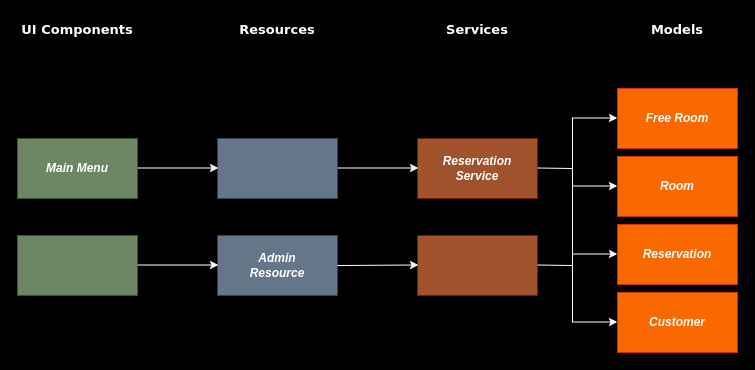
This 755x370 diagram has some shape labels left out. The shapes that lost their labels are listed below. From the top down, each one's box as (x1, y1, x2, y2) in pixels, then its label:
(216, 138, 338, 198): Hotel Reservation Resource
(16, 234, 138, 296): Admin Mene
(416, 234, 538, 296): Customer Service
